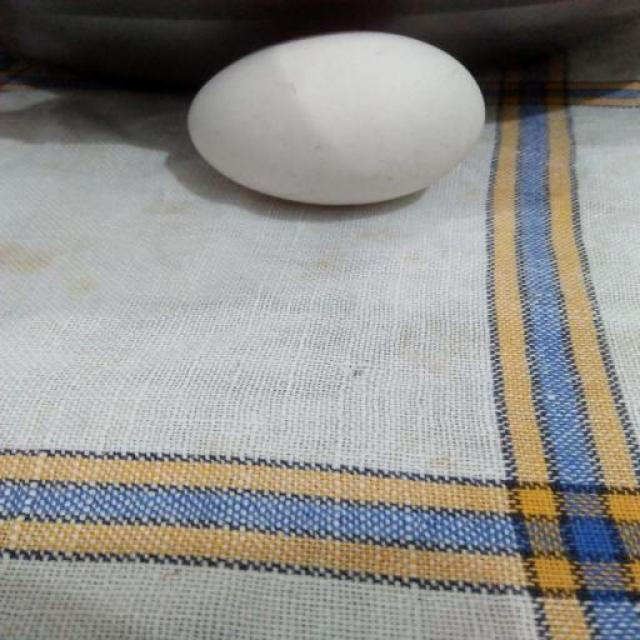telur: (187, 29, 486, 206)
